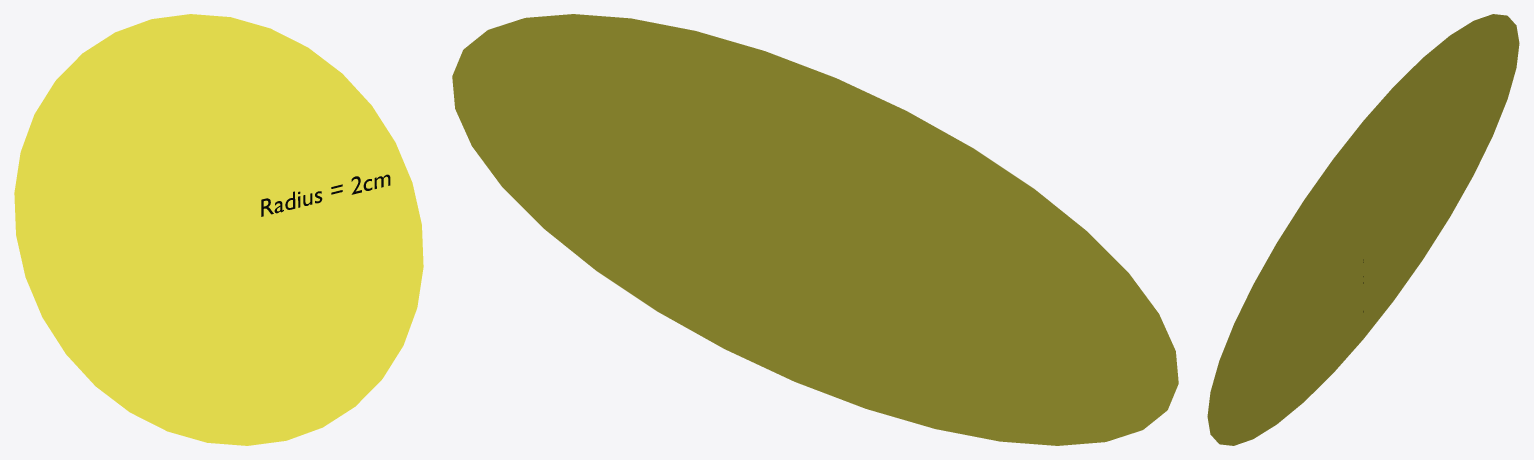
File: circler2.glb
3 renders of one model, left to right at view 1: azimuth 30°, elevation 25°; view 2: azimuth 150°, elevation 25°; view 3: azimuth 270°, elevation 25°, orthographic. The views are drawn at different scales.
Parts seen in each view (by area): view 1: Sphere, Text; view 2: Sphere; view 3: Sphere.
Boxes of the visible parts, left/top/right/bottom form: Sphere: left=14, top=14, right=423, bottom=445; Text: left=261, top=174, right=390, bottom=216; Sphere: left=452, top=14, right=1178, bottom=445; Sphere: left=1207, top=14, right=1519, bottom=445.
Bounding box in the file's own units: 0.4 × 0.3189 × 0.2414.
